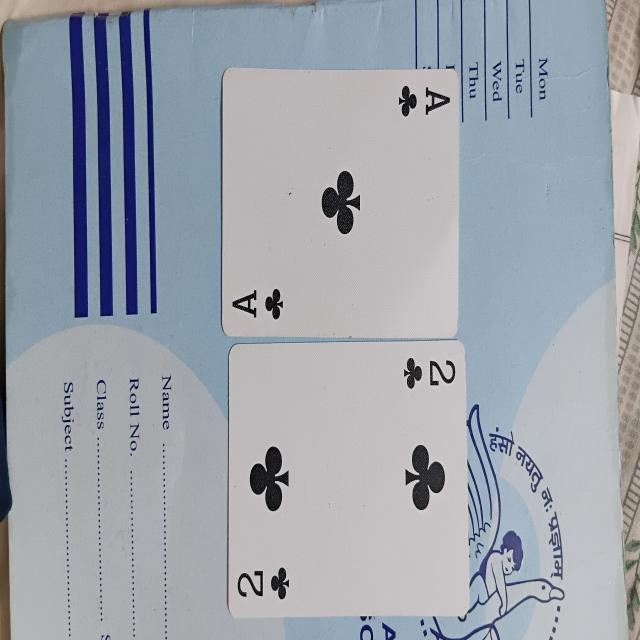AC: (222, 68, 460, 340)
JC: (225, 337, 467, 617)
